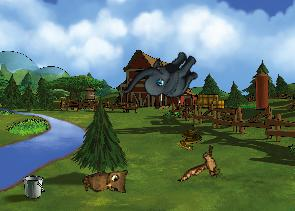eagle: (177, 138, 229, 195)
elephant: (120, 33, 205, 122)
owl: (80, 164, 133, 204)
